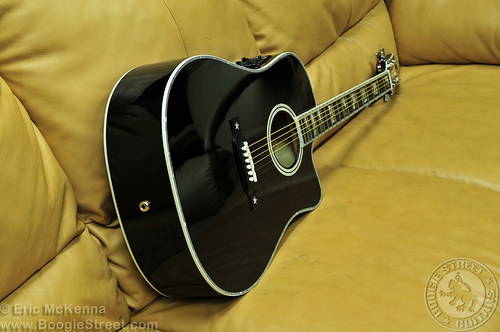guitar: (103, 50, 402, 304)
